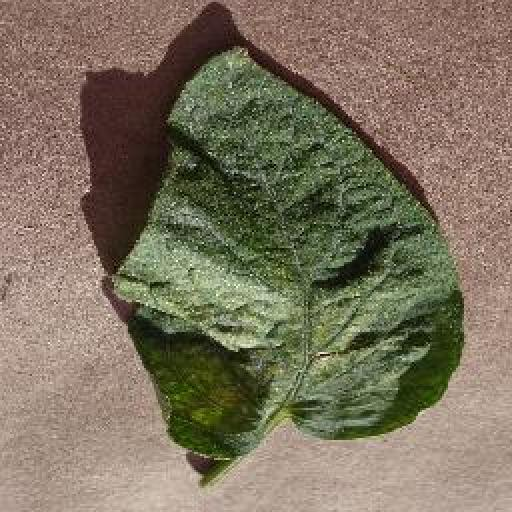disease_tomato: (108, 47, 469, 461)
